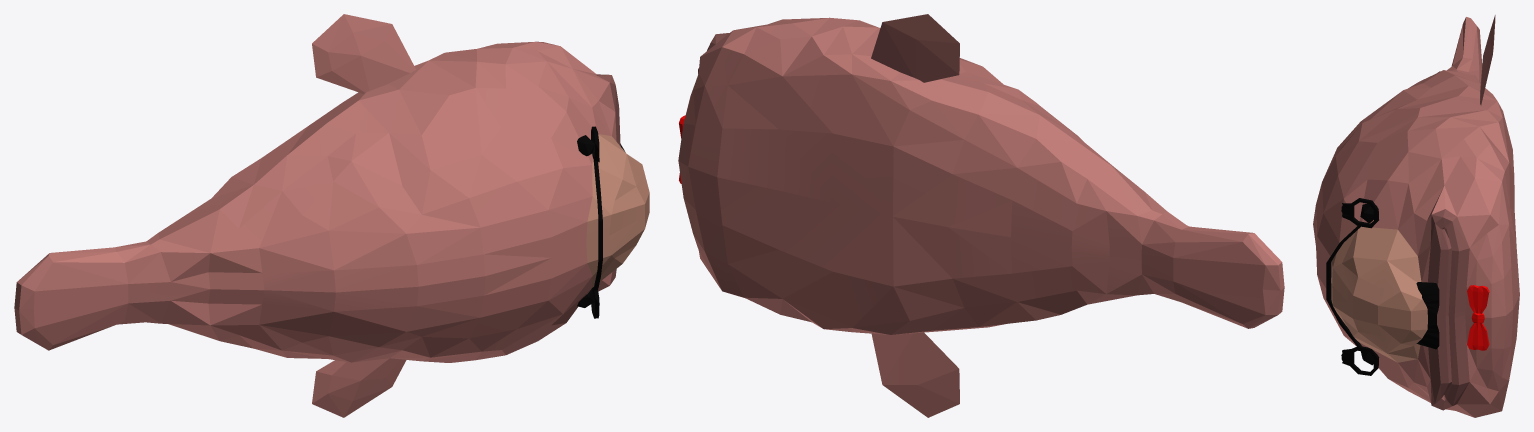
File: BlobfishDrip.glb
3 views of the same model, side by side, from view 1: azimuth 30°, elevation 25°; view 2: azimuth 150°, elevation 25°; view 3: azimuth 270°, elevation 25° (orthographic). The views are drawn at different scales.
Parts seen in each view (by area): view 1: BlobfishDrip; view 2: BlobfishDrip; view 3: BlobfishDrip.
Part boxes in pixels (bbox=[...]): BlobfishDrip: bbox=[14, 14, 649, 417]; BlobfishDrip: bbox=[678, 14, 1284, 417]; BlobfishDrip: bbox=[1313, 15, 1519, 417].
Size of the model in its own units: 0.9819 by 0.6355 by 0.314.
Materials: 1 (1 with a texture image).
